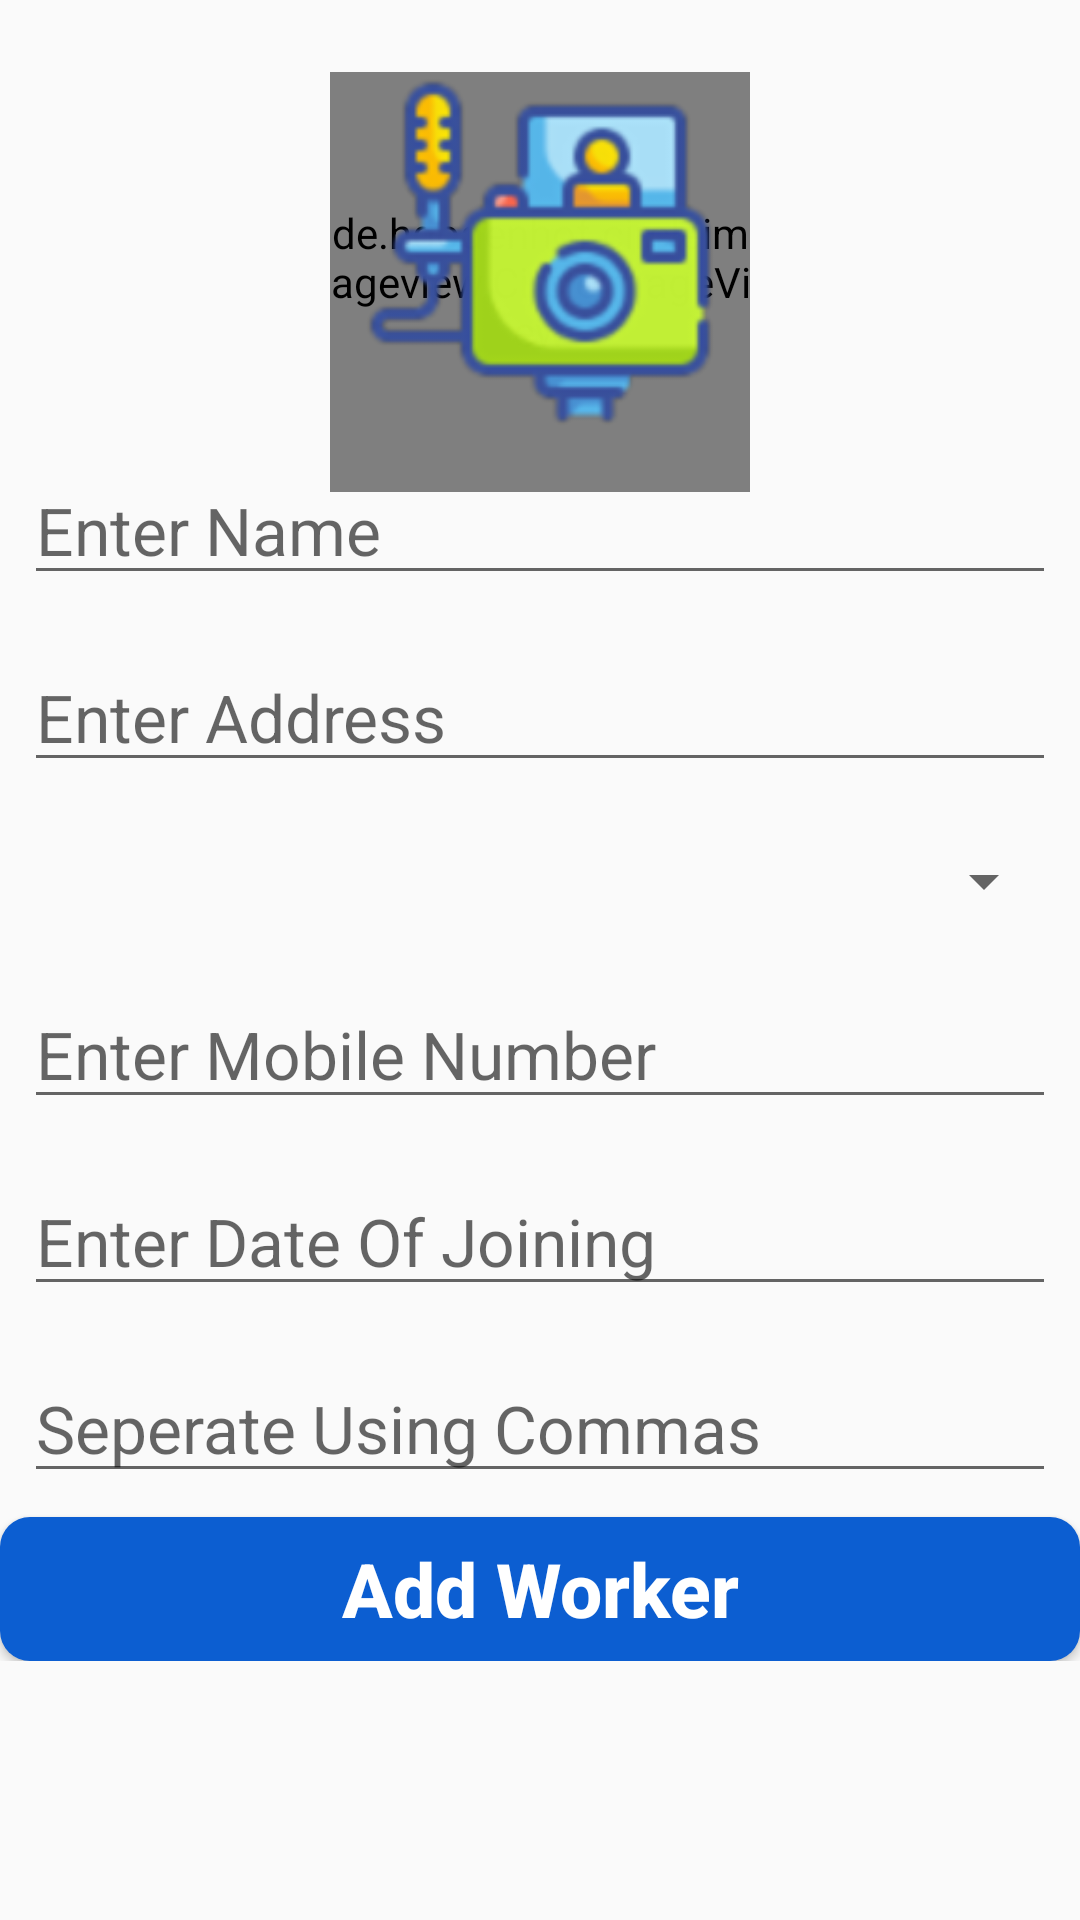

Where icons sit on this 1080*1920 app screen, as BBox(x1, y1, x2, y2):
vlog: BBox(360, 82, 713, 422)
